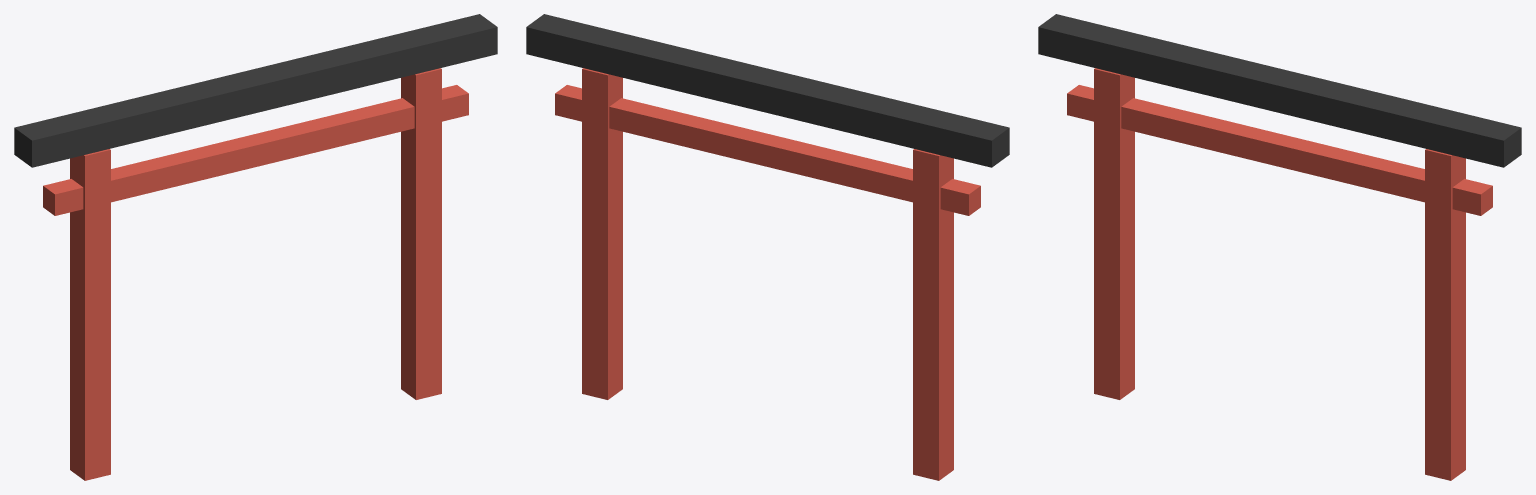
File: shrine-gate.glb
3 renders of one model, left to right at view 1: azimuth 30°, elevation 25°; view 2: azimuth 150°, elevation 25°; view 3: azimuth 330°, elevation 25°, orthographic.
Visible parts, largest first — view 1: Kasagi, Pillar_L, Pillar_R, Nuki; view 2: Kasagi, Pillar_L, Pillar_R, Nuki; view 3: Kasagi, Pillar_R, Pillar_L, Nuki.
Part boxes in pixels (x1,y1,x2,y2): Kasagi: (14, 14, 497, 167); Pillar_L: (70, 149, 110, 480); Pillar_R: (401, 68, 441, 399); Nuki: (43, 85, 468, 215); Kasagi: (526, 14, 1009, 167); Pillar_L: (913, 149, 953, 480); Pillar_R: (582, 68, 622, 399); Nuki: (555, 85, 980, 215); Kasagi: (1038, 14, 1521, 167); Pillar_R: (1425, 149, 1465, 480); Pillar_L: (1094, 68, 1134, 399); Nuki: (1067, 85, 1492, 215).
Bounding box in the file's own units: 9 × 6.55 × 0.6.
